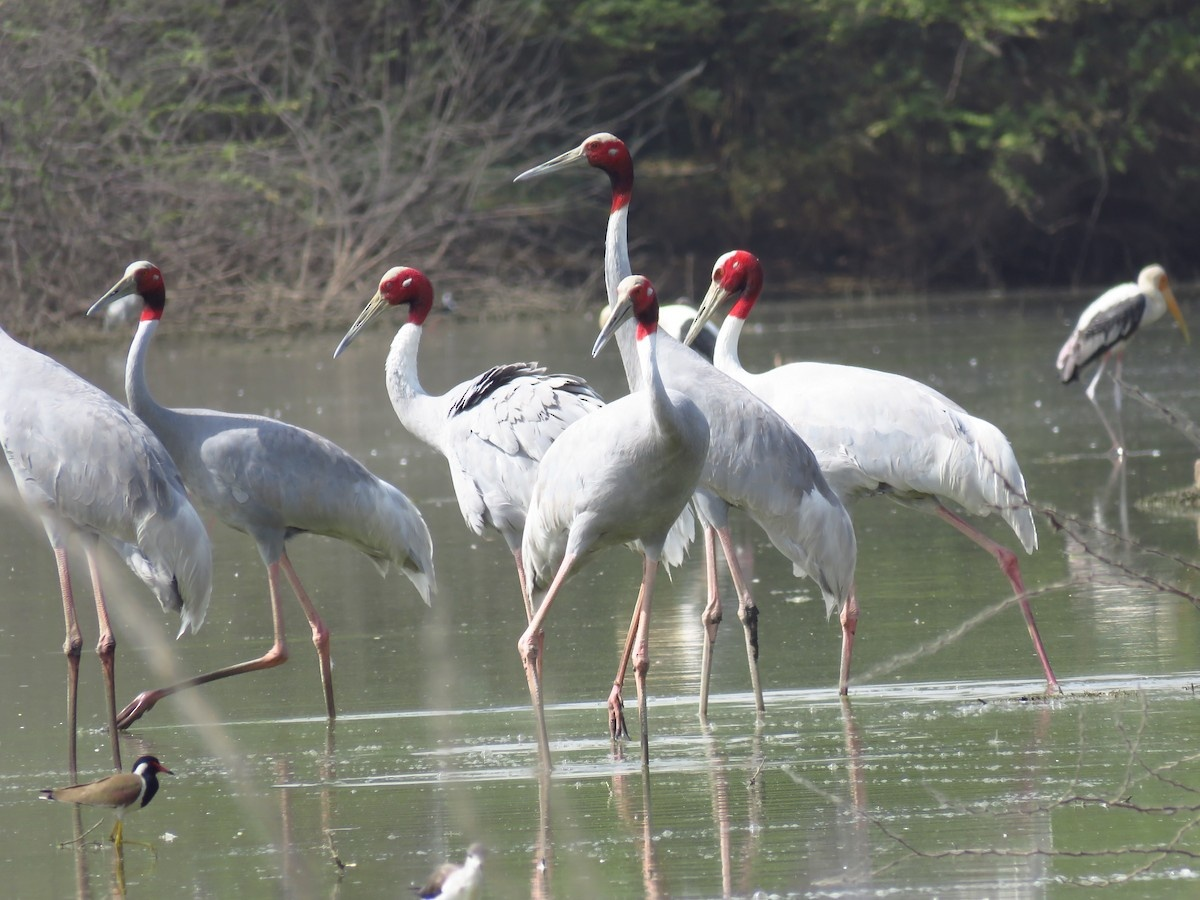crane: (690, 227, 1094, 722), (83, 247, 436, 765), (327, 244, 595, 790), (522, 269, 701, 785), (505, 111, 684, 271)
